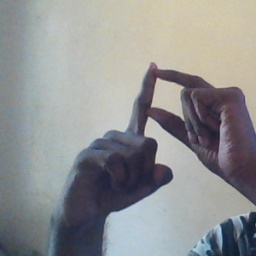D: (108, 50, 229, 175)
